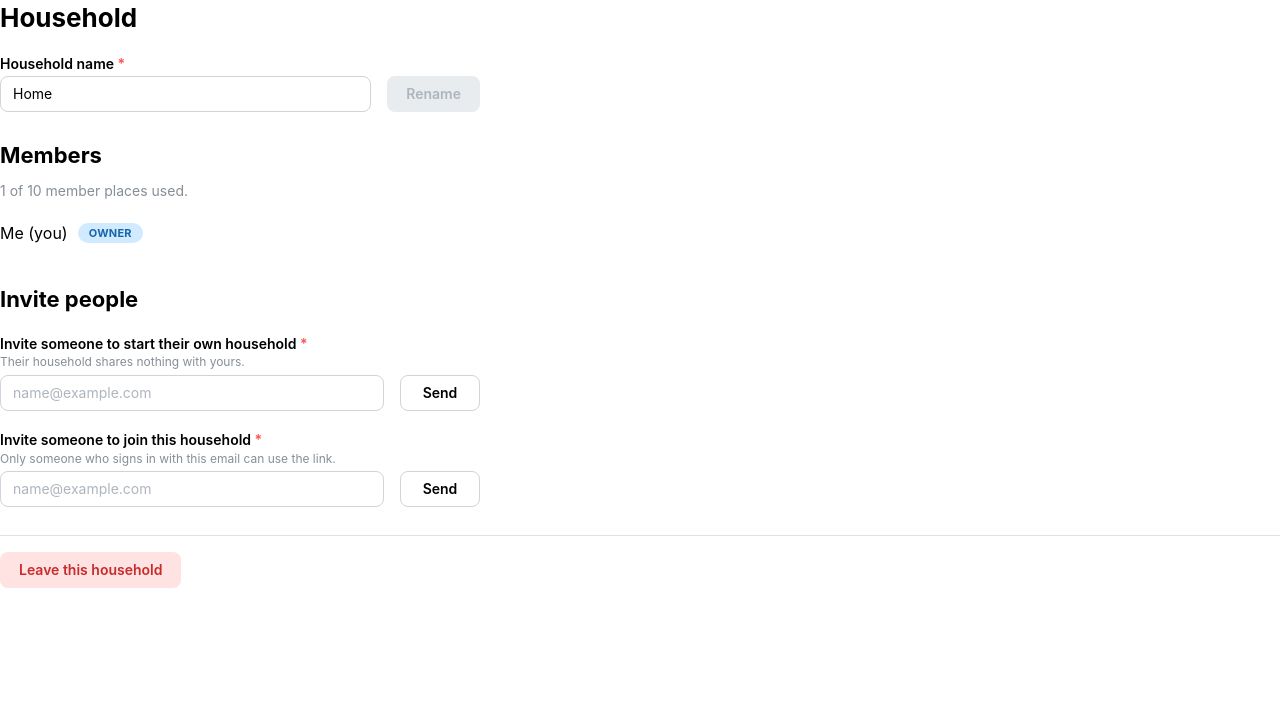
Scenario: household settings section › warns the last member that leaving closes the household
Check: the text "Me (you)" is shown, box x1=0 y1=221 x2=68 y2=246
Click the button "Leave this household".
click(91, 570)  # box x1=0 y1=552 x2=182 y2=588
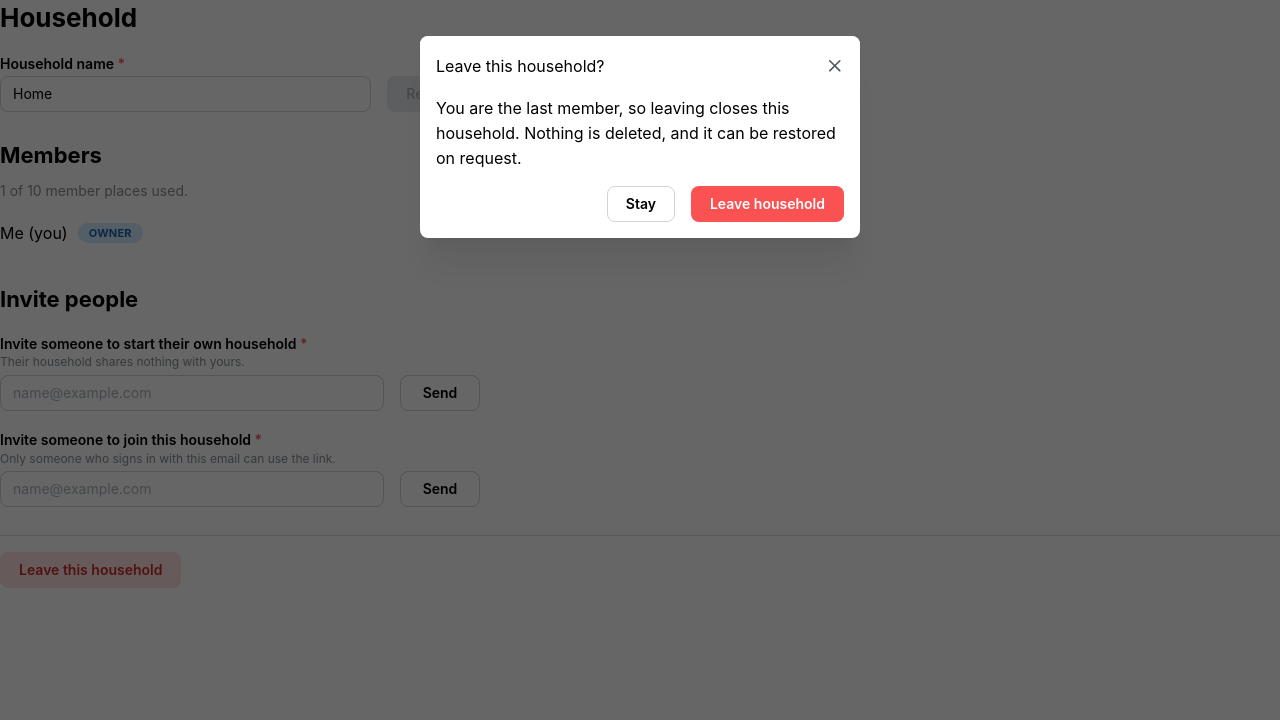
Check: the text "leaving closes this household" is shown, box x1=436 y1=98 x2=836 y2=168
